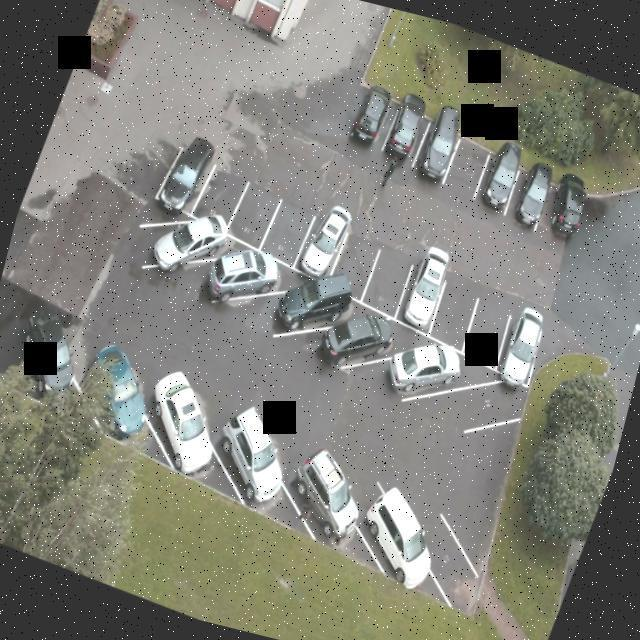car: (180, 401, 316, 529), (46, 336, 180, 461), (264, 441, 384, 562), (123, 372, 240, 489), (334, 477, 446, 594), (365, 318, 477, 432), (0, 295, 100, 416), (250, 251, 364, 351), (300, 287, 407, 393), (190, 226, 288, 318), (128, 206, 225, 289), (150, 124, 221, 217), (491, 300, 558, 391), (290, 196, 360, 281), (392, 252, 457, 343), (374, 102, 430, 180), (341, 82, 398, 158), (498, 163, 554, 237), (528, 180, 582, 256), (402, 121, 458, 189), (472, 148, 522, 218)
free: (418, 348, 540, 462), (372, 496, 496, 600), (252, 188, 324, 270), (418, 270, 482, 356), (452, 288, 516, 373), (322, 218, 384, 302), (222, 177, 284, 255), (193, 157, 255, 234), (356, 242, 416, 320), (435, 136, 495, 208)
